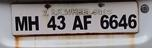3: (56, 15, 66, 30)
4: (45, 15, 57, 31), (119, 14, 129, 30)
6: (109, 14, 120, 30), (99, 14, 110, 29), (128, 13, 137, 30)
A: (72, 14, 84, 30)
F: (82, 14, 93, 30)
H: (28, 16, 41, 31)
M: (14, 15, 28, 32)
